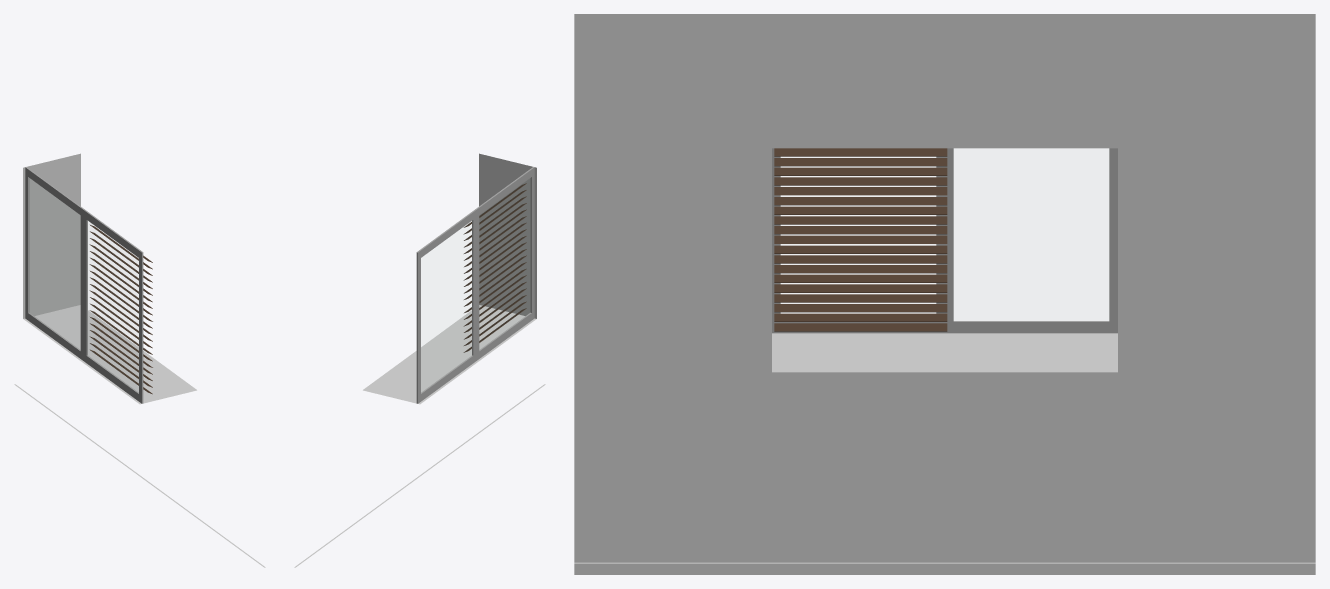
Rendered from 300-wall-demado.glb.
The picture shows the model from 3 angles, left to right: view 1: azimuth 30°, elevation 25°; view 2: azimuth 150°, elevation 25°; view 3: azimuth 270°, elevation 25°; orthographic projection. The views are drawn at different scales.
Visible parts, largest first — view 1: __300_WALL_DEMADO__, Window, __ROOM_TOP__demado, Cube; view 2: __300_WALL_DEMADO__, __ROOM_TOP__demado, Window, Cube; view 3: __ROOM_WALL__wall.001, Cube, __ROOM_TOP__demado, __300_WALL_DEMADO__, Window.
Boxes of the visible parts, x1,y1,x2,y2 form: __300_WALL_DEMADO__: [14, 153, 265, 567]; Window: [25, 167, 143, 403]; __ROOM_TOP__demado: [23, 305, 196, 404]; Cube: [89, 225, 152, 394]; __300_WALL_DEMADO__: [294, 153, 545, 567]; __ROOM_TOP__demado: [363, 305, 536, 404]; Window: [416, 167, 534, 403]; Cube: [463, 183, 526, 352]; __ROOM_WALL__wall.001: [574, 14, 1315, 562]; Cube: [774, 148, 947, 331]; __ROOM_TOP__demado: [772, 333, 1117, 372]; __300_WALL_DEMADO__: [574, 562, 1315, 574]; Window: [772, 148, 1117, 333].
Size of the model in its own units: 0.41 by 2.5 by 3.
